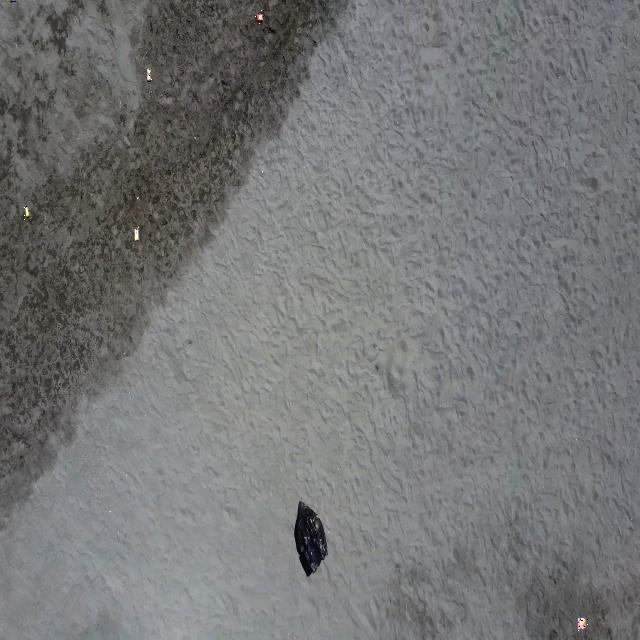Garbage: (293, 502, 326, 575), (576, 617, 587, 630), (255, 9, 263, 23), (23, 206, 30, 219), (145, 68, 151, 80), (134, 227, 138, 240)
